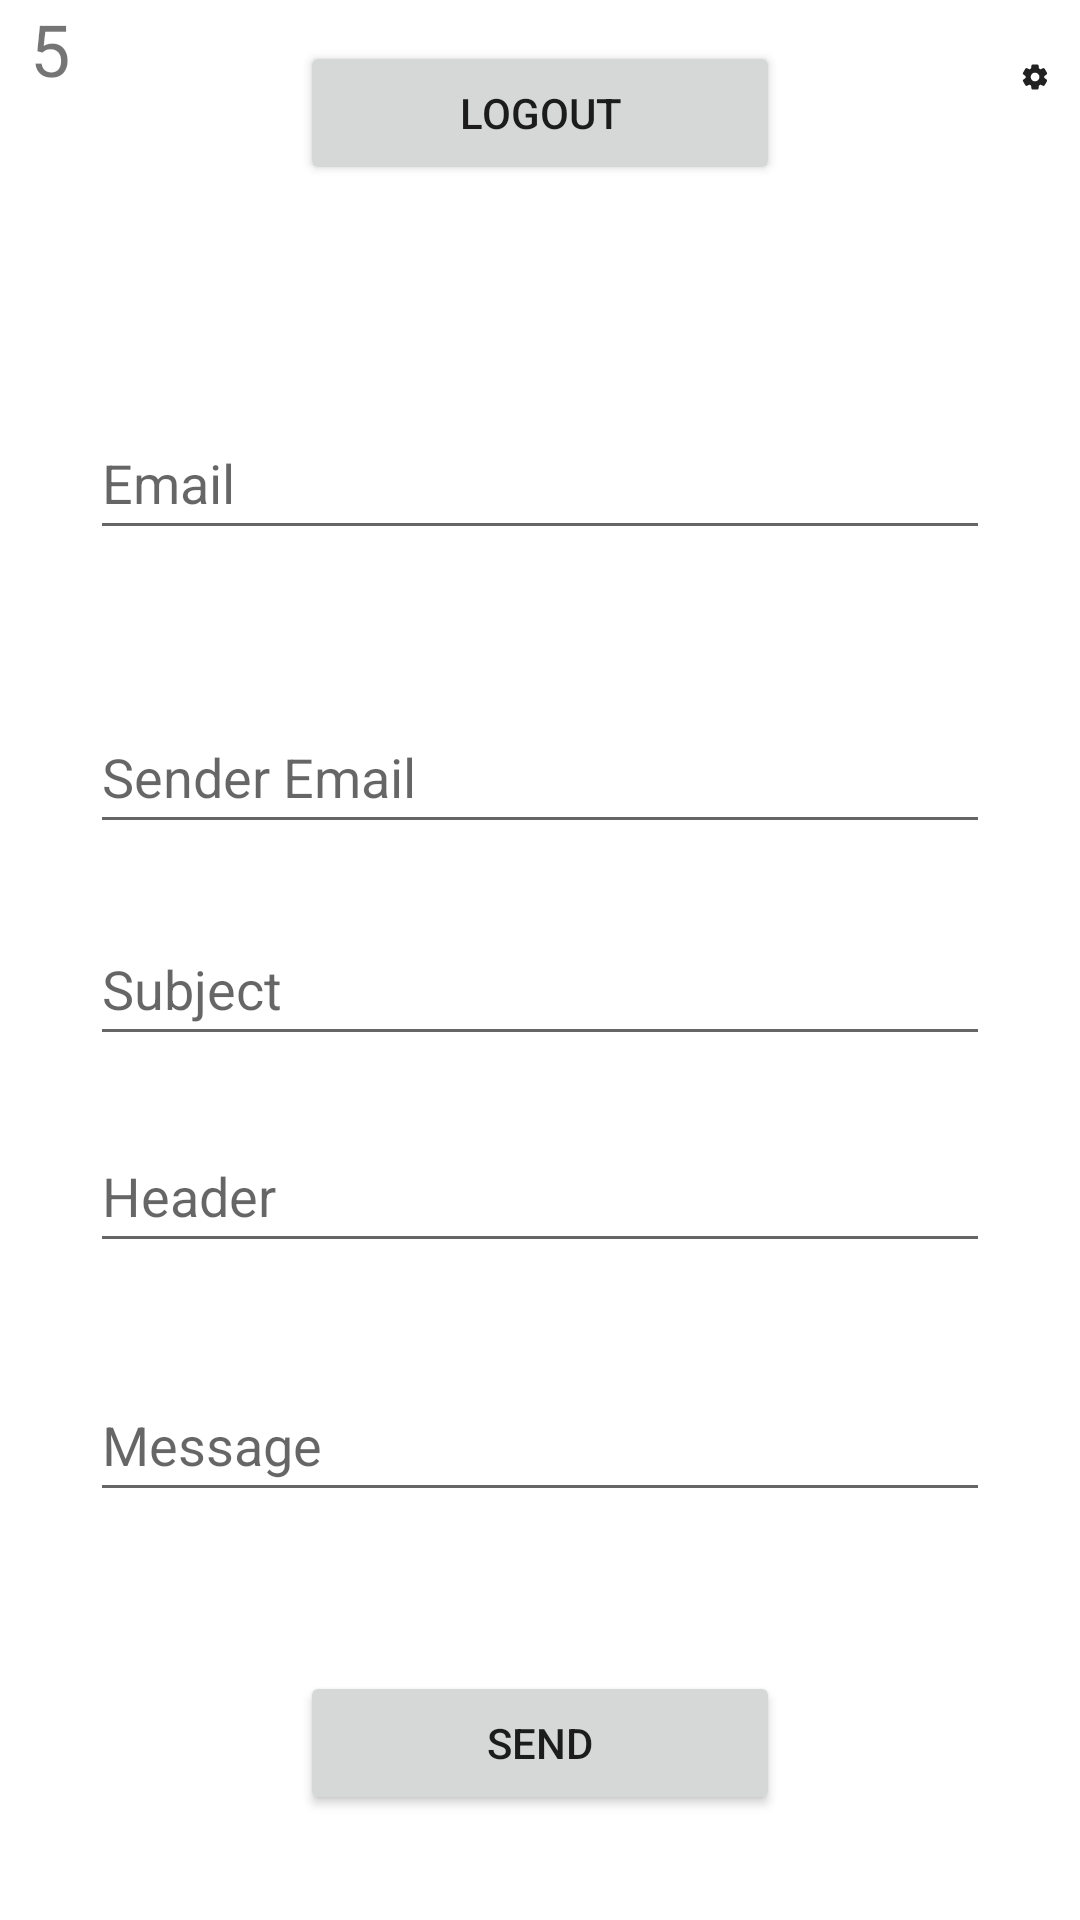

Where icons sit on this 1080w x 1920h app screen, as (x1, y1, x2, y2):
settings: (1022, 64, 1047, 90)
